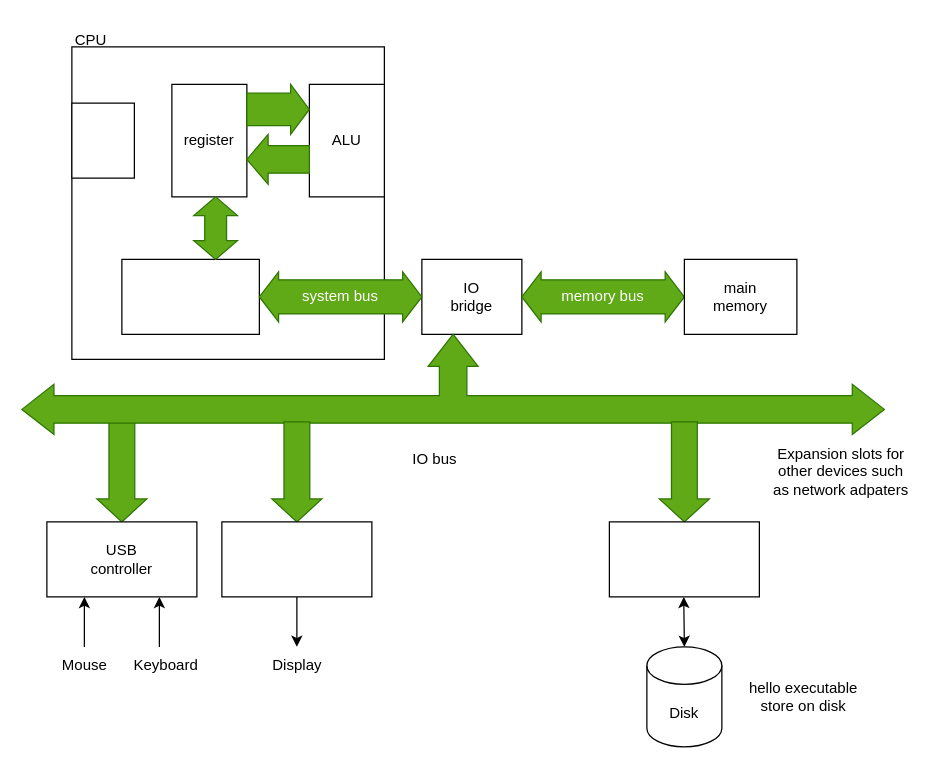
Image size: 944x769. Some labels were removed from this diagram. The box of each missing label's shape, as (x1, y1, x2, y2) in pixels:
Bus interface: (121, 258, 259, 334)
Disk controller: (608, 521, 759, 597)
Graphics adapter: (221, 521, 372, 597)
PC: (71, 102, 134, 178)
